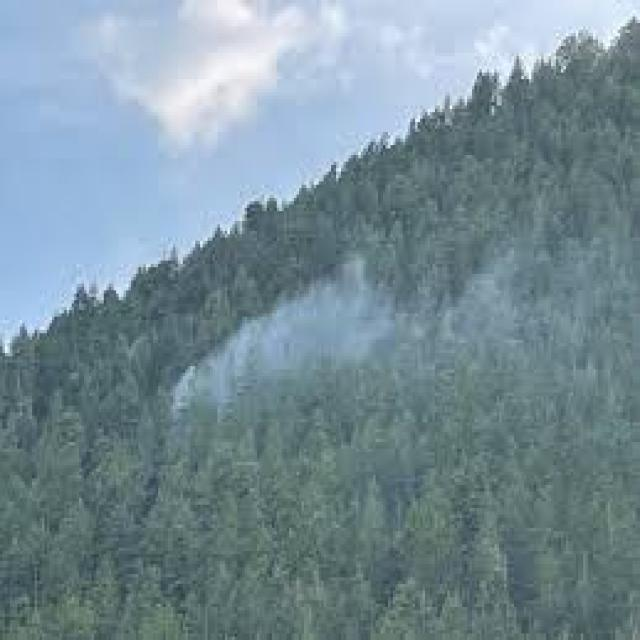Smoke: (167, 256, 519, 427)
